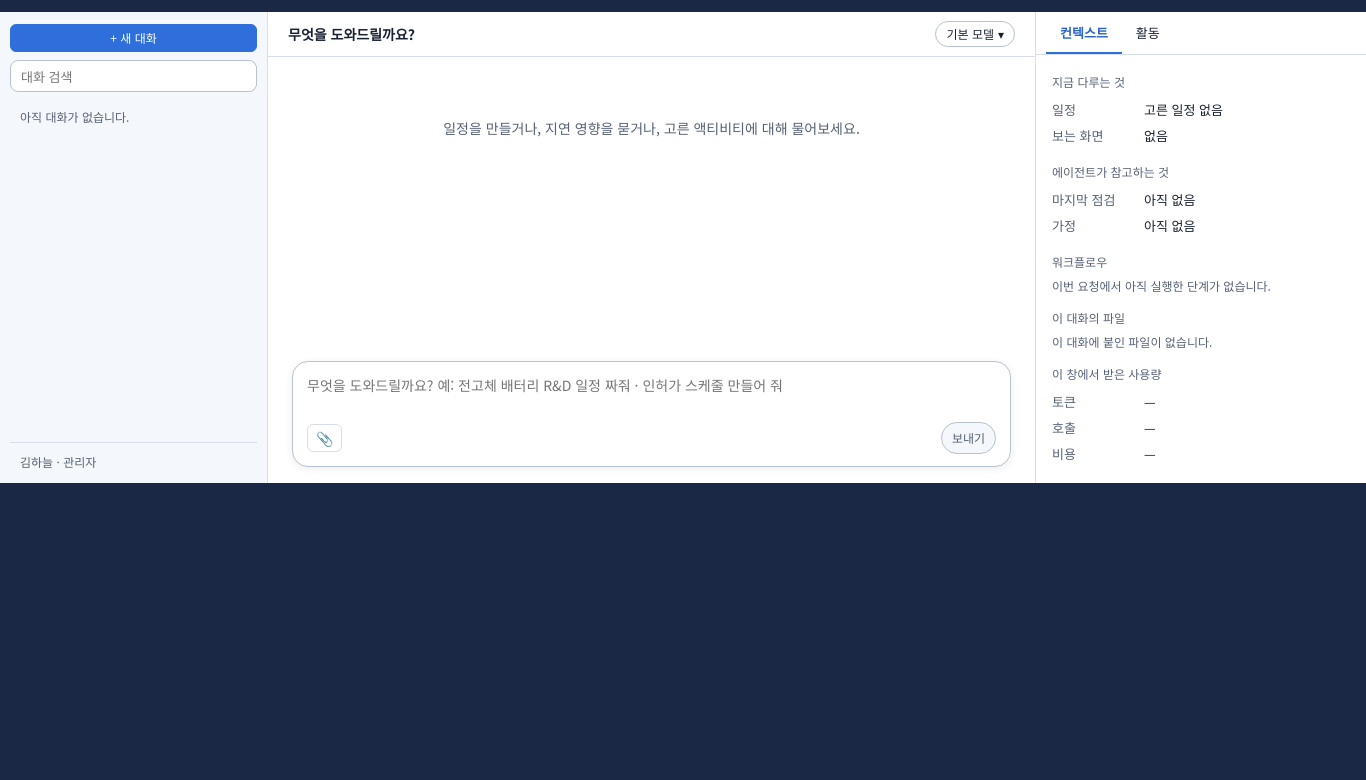
Test case: R2 · every card kind the backend sends › auto_applied card shows the version and the summary numbers
Step 1. Type "q" into the text box named "에이전트에게 요청" → coordinates (652, 398), box top-left (307, 374), bottom-right (996, 422)
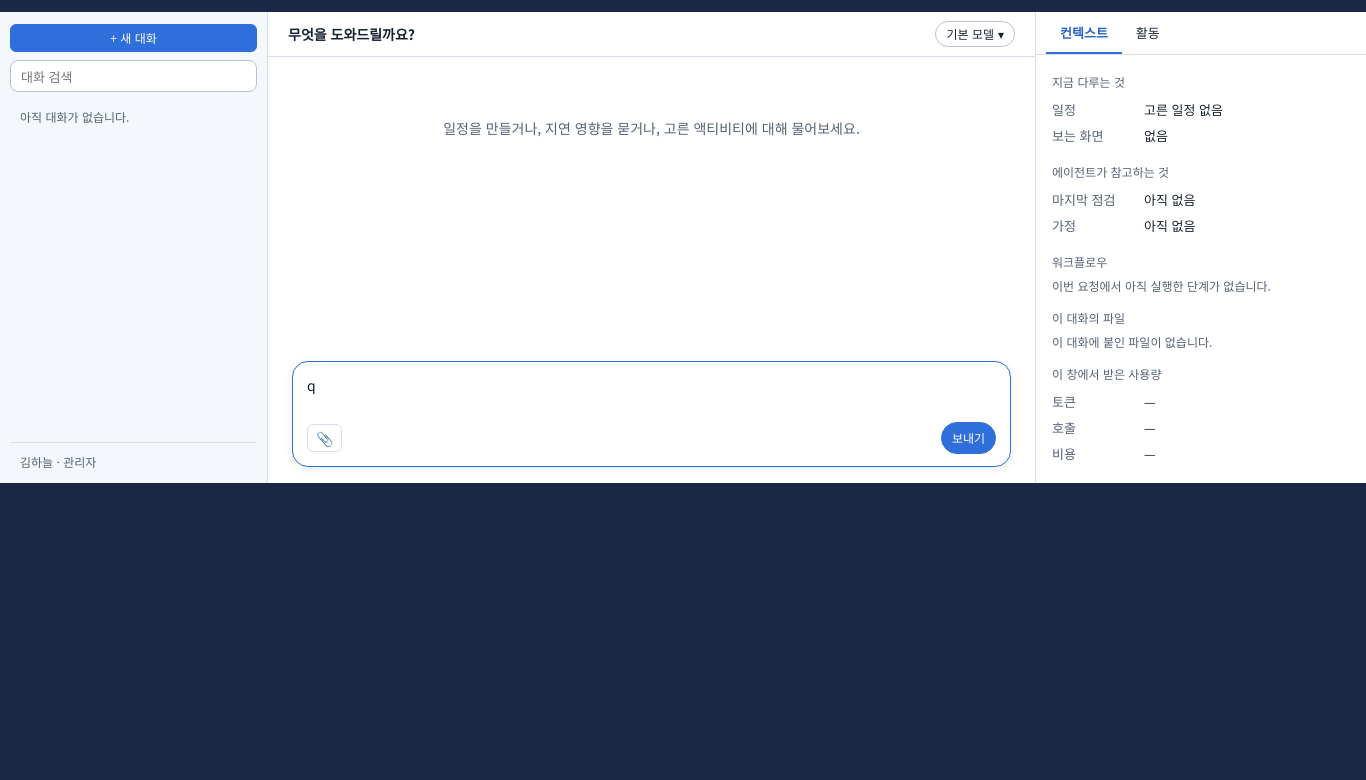
Step 2. Click the button "보내기" → coordinates (968, 438), box top-left (941, 422), bottom-right (996, 454)
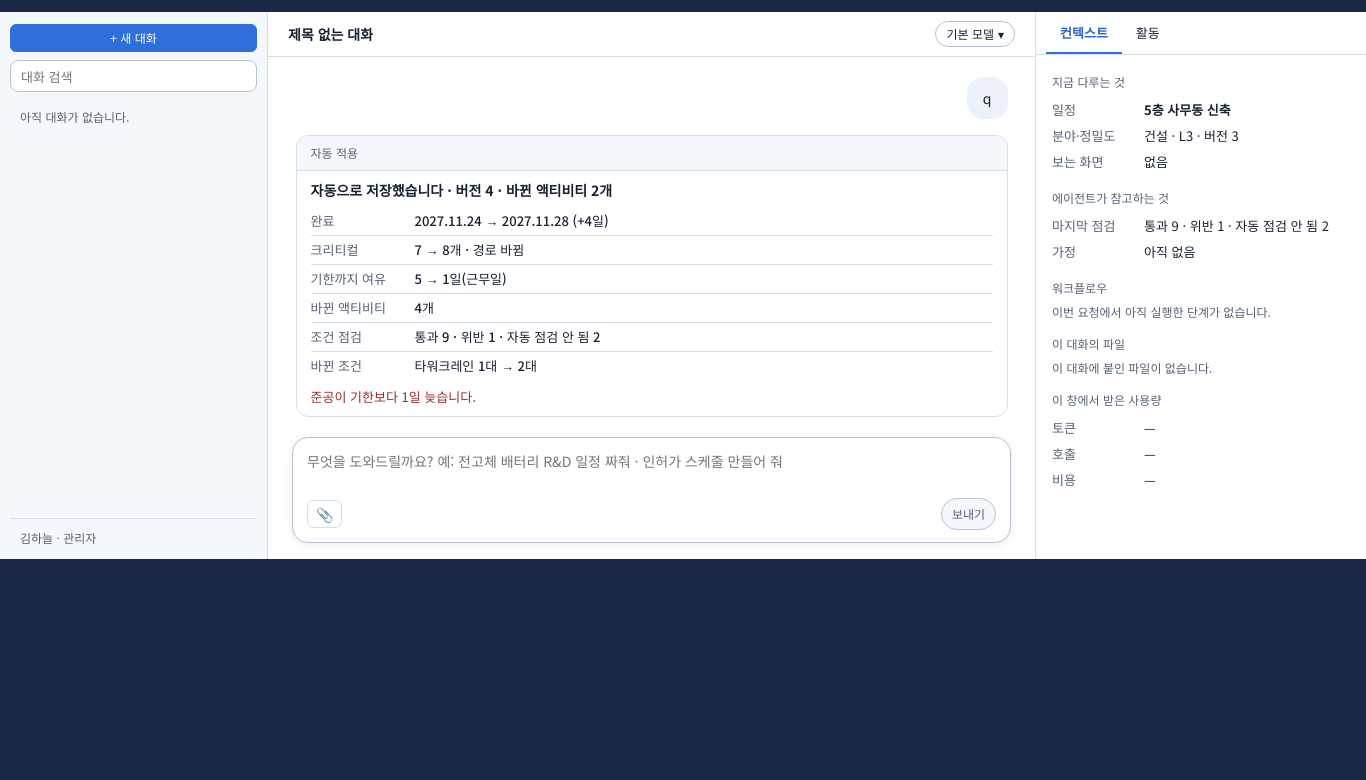
Expected: the element "자동 적용" shows "자동으로 저장했습니다 · 버전 4 · 바뀐 액티비티 2개", top-left (310, 180), bottom-right (612, 200)
Expected: the element "자동 적용" shows "2027.11.24 → 2027.11.28 (+4일)", top-left (414, 211), bottom-right (609, 230)
